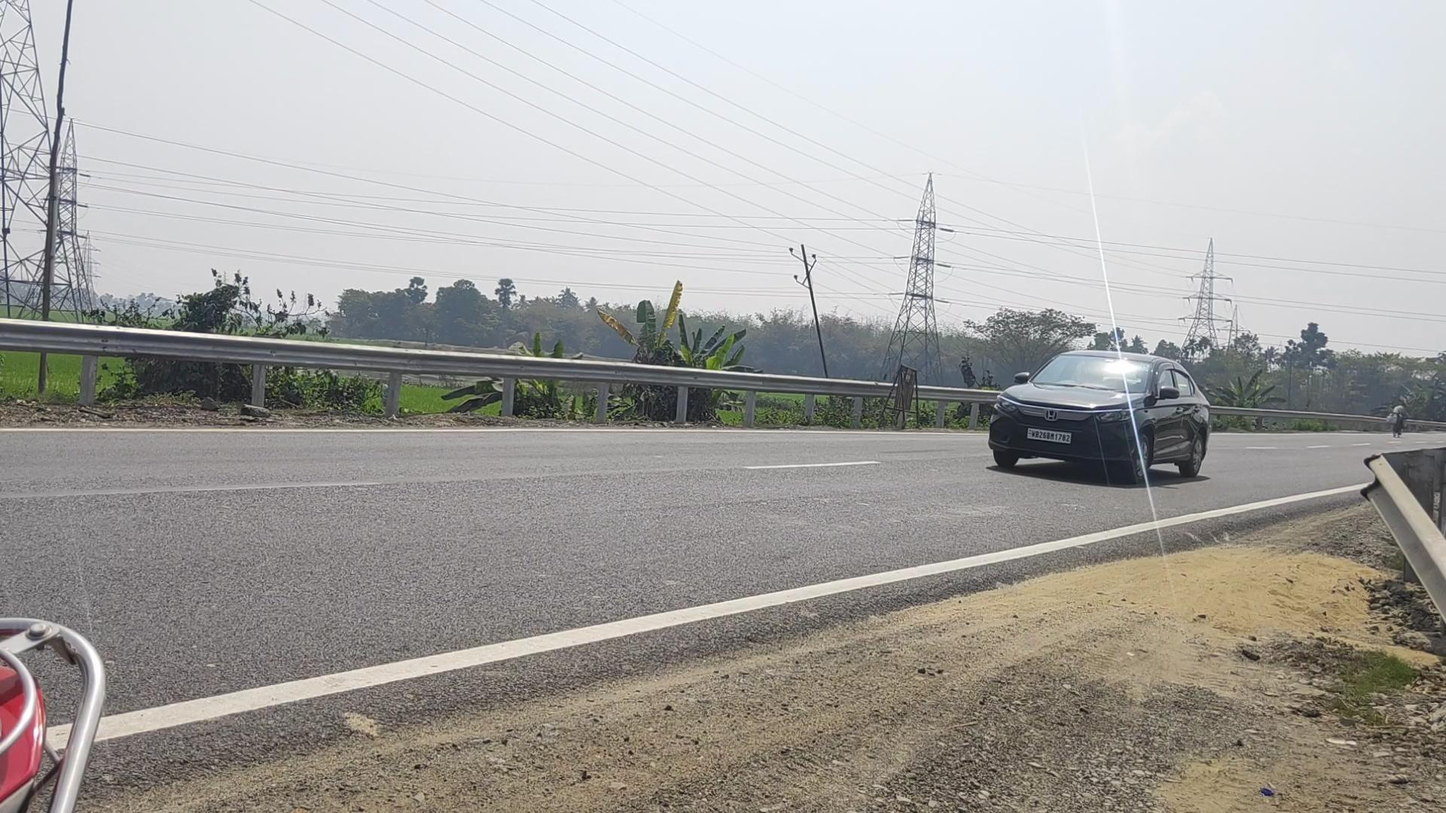bike: (1390, 403, 1407, 438)
car: (989, 350, 1211, 486)
